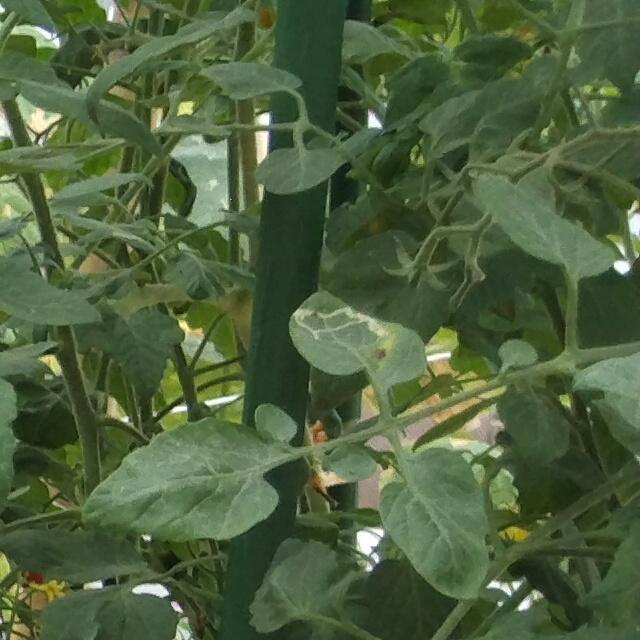Healthy: (71, 415, 290, 543), (376, 439, 496, 605), (471, 170, 617, 280), (253, 142, 350, 197)
Leaf_Miner: (290, 287, 428, 388)
